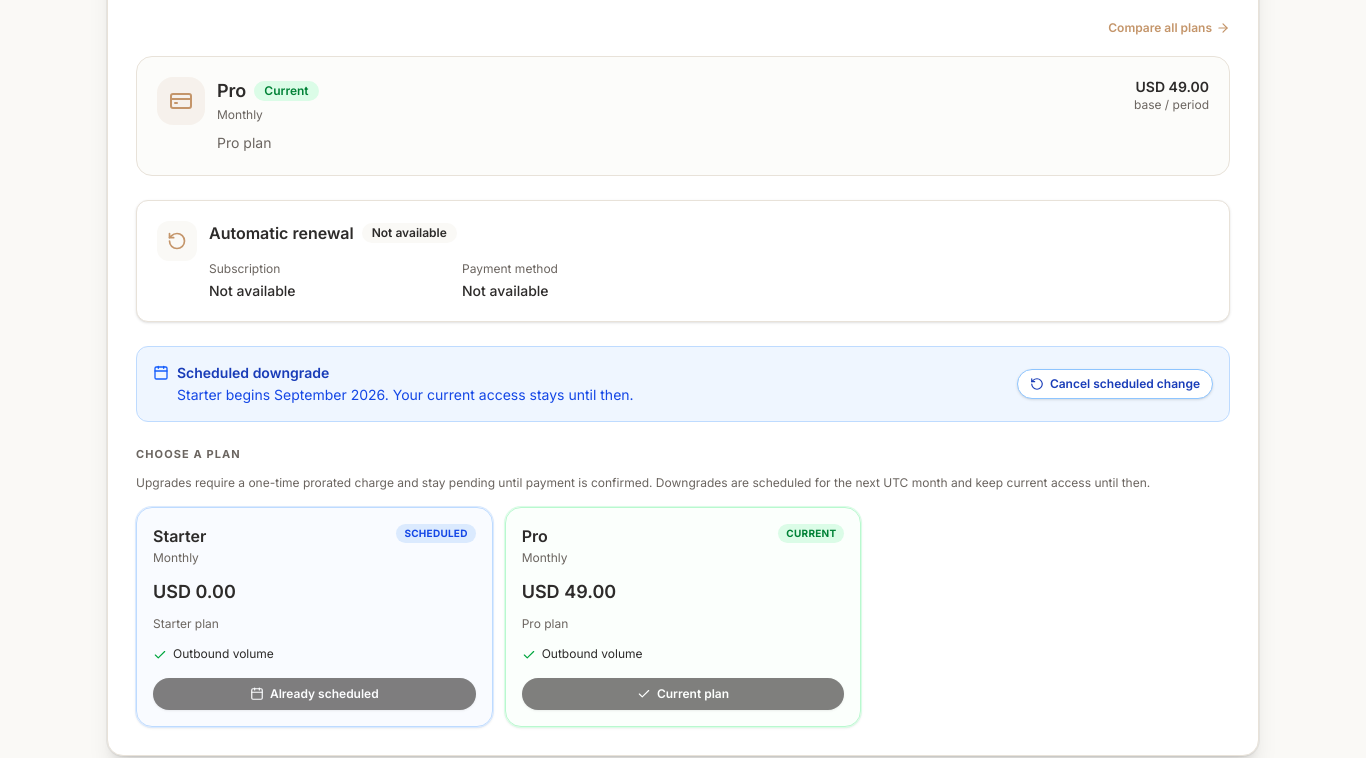
it: Billing — plan change › shows the backend error when canceling a scheduled change fails
(page scrolled)
Click the button with aria-label "Cancel scheduled change to Starter" at (1115, 384), box [1017, 369, 1213, 399]
(page scrolled)
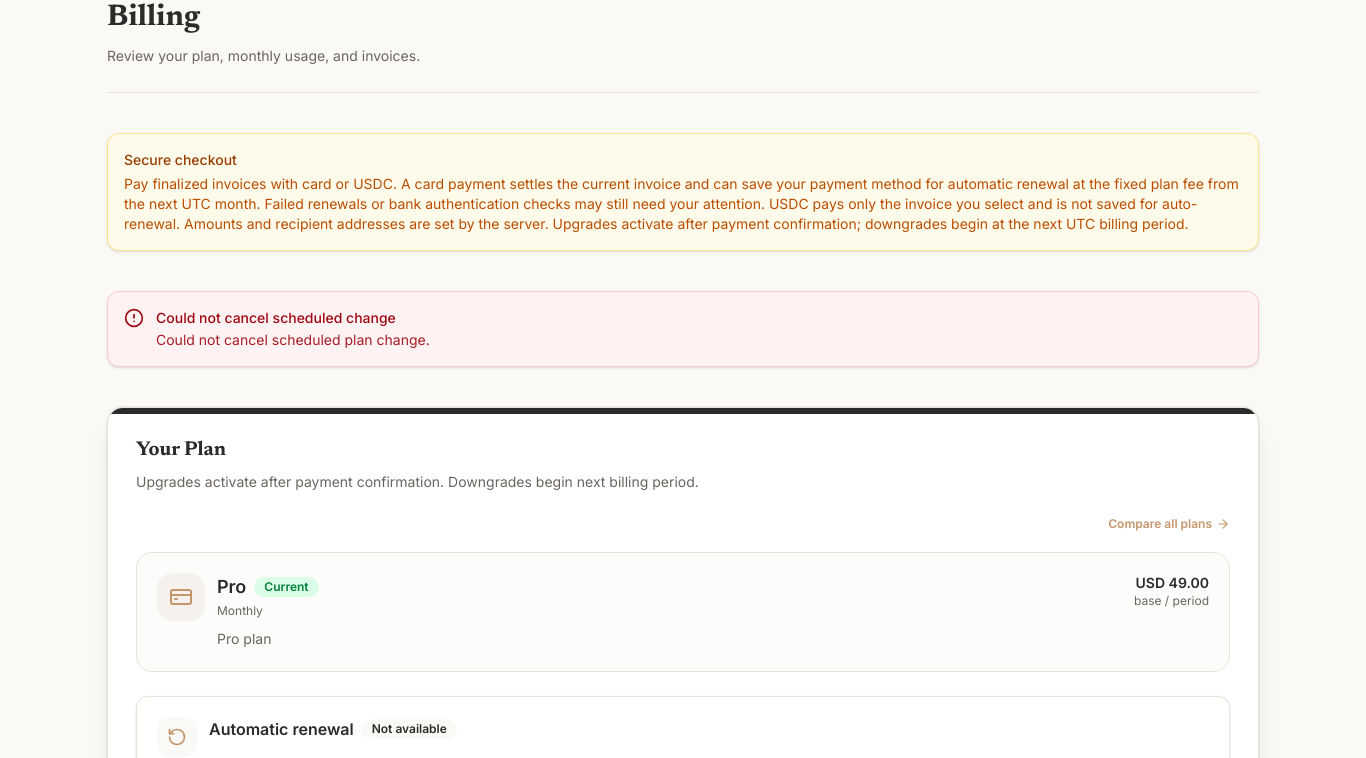
Expected: the text "Could not cancel scheduled plan change." is shown, [156, 330, 430, 350]
Expected: the text "Could not cancel scheduled change" is shown, [156, 308, 430, 328]
